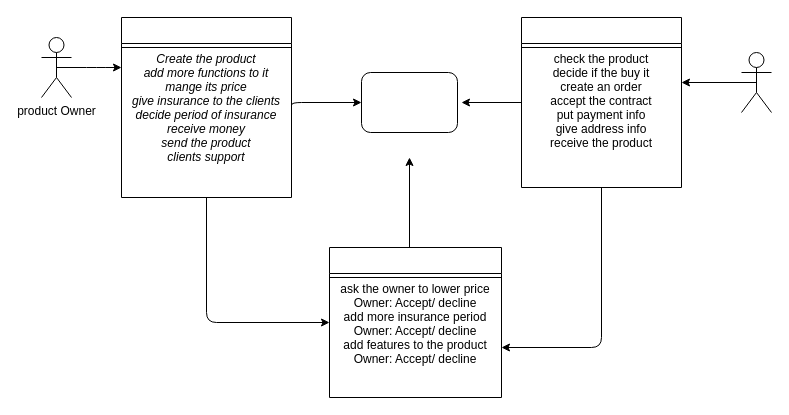
This 789x415 diagram has some shape labels left out. Here are the shapes that lost their labels. From the top down, the centre of each, then its label:
(x=409, y=102): Product
(x=756, y=82): Client
